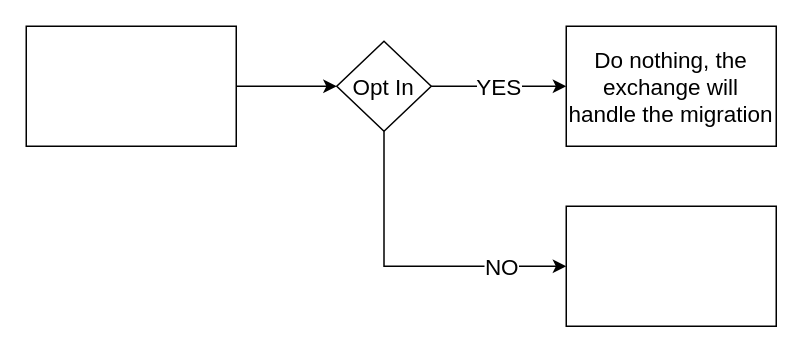
This 803x353 diagram has some shape labels left out. The centre of each missing label's shape, as x and y in pixels:
"Receive E-mail regarding upgrade" goes at (130,85).
"Transfer Sai from exchange to personal wallet before cut-off date" goes at (670,265).
